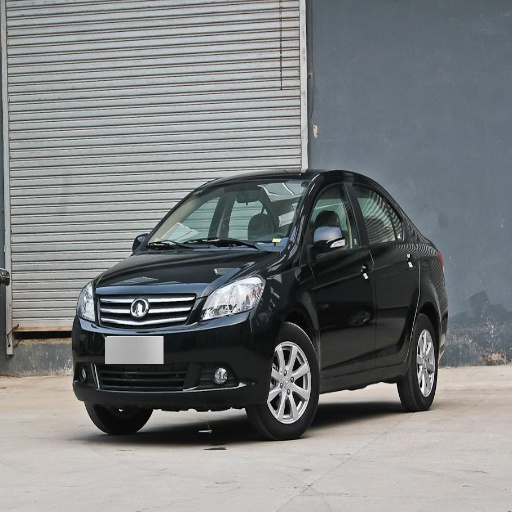front_bumper: (72, 284, 273, 409)
front_glass: (141, 178, 300, 249)
front_left_door: (305, 173, 376, 367)
